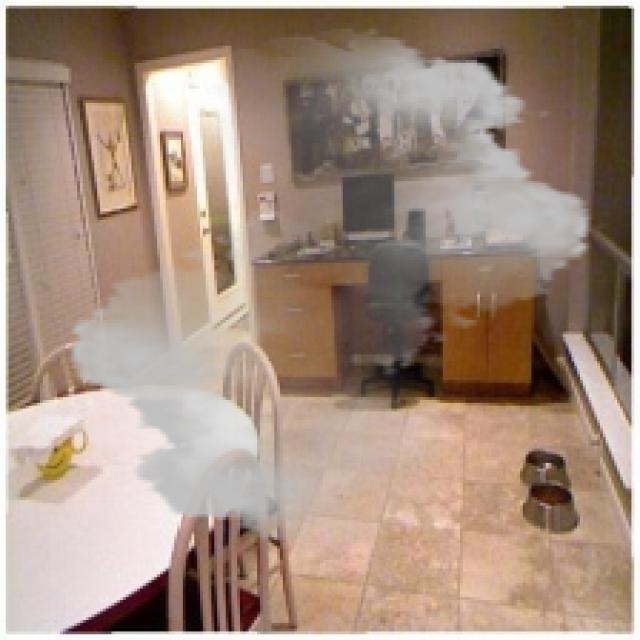smoke: (51, 29, 608, 548)
